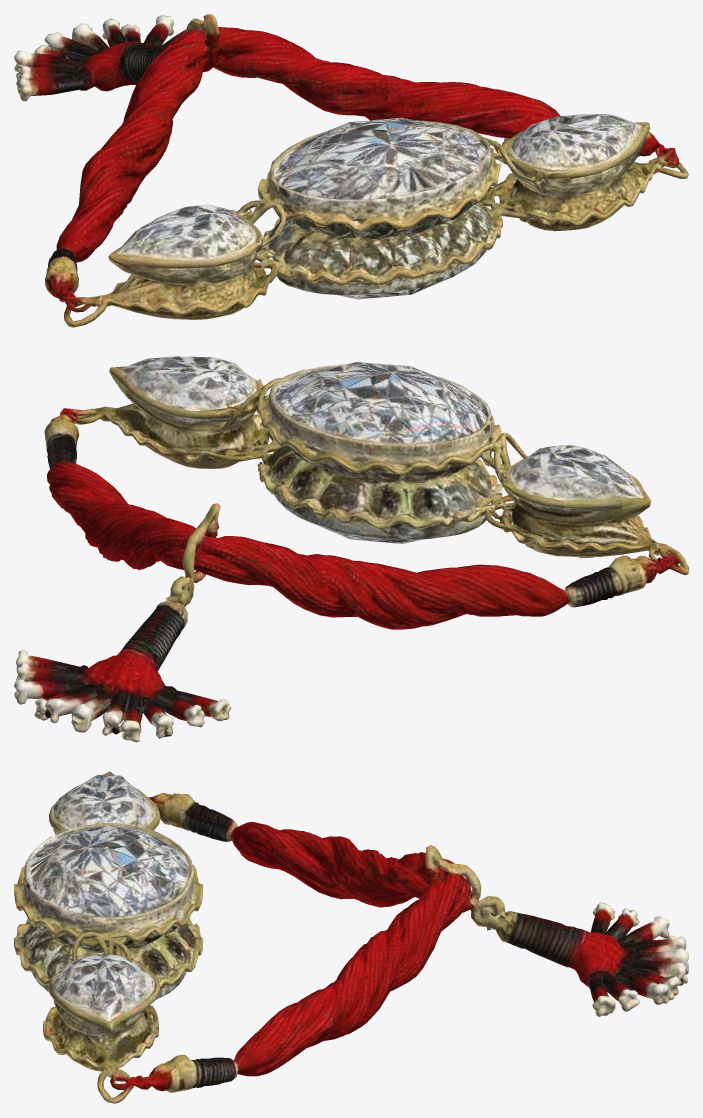
Rendered from kohinoor-gem.glb.
3 views of the same model, one above another, from view 1: azimuth 30°, elevation 25°; view 2: azimuth 150°, elevation 25°; view 3: azimuth 270°, elevation 25° (orthographic). The views are drawn at different scales.
Bounding box in the file's own units: 1.9 × 0.4442 × 1.86.
Materials: 1 (1 with a texture image).
